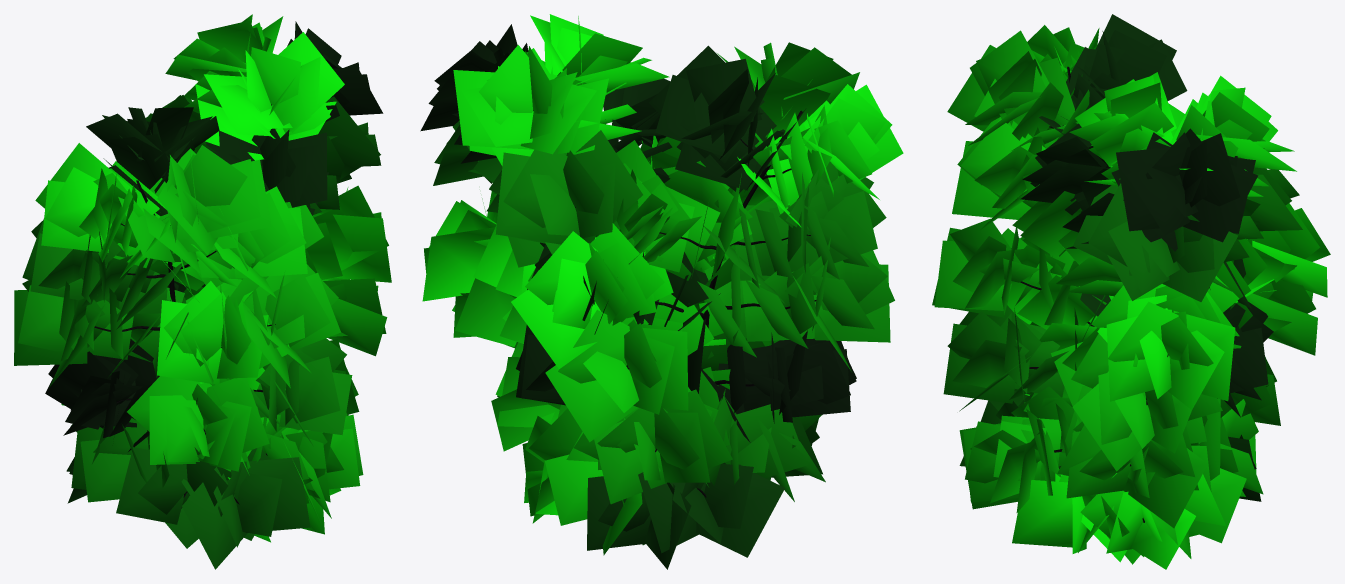
File: Maple_6.fbx
The picture shows the model from 3 angles, left to right: view 1: azimuth 30°, elevation 25°; view 2: azimuth 150°, elevation 25°; view 3: azimuth 270°, elevation 25°; orthographic projection. The views are drawn at different scales.
Parts seen in each view (by area): view 1: Maple_6; view 2: Maple_6; view 3: Maple_6.
Boxes of the visible parts, x1,y1,x2,y2 form: Maple_6: (14, 14, 391, 569); Maple_6: (420, 14, 903, 569); Maple_6: (932, 14, 1330, 569).
Bounding box in the file's own units: 436 × 504 × 373.
